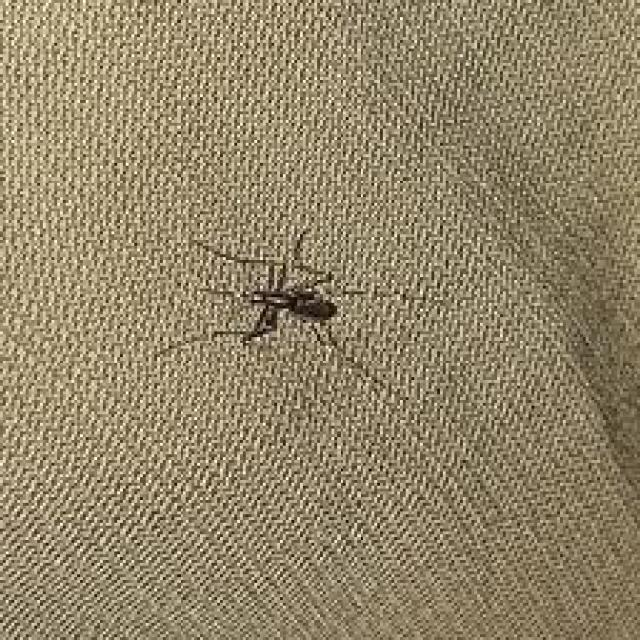Aedes albopictus: (157, 224, 386, 387)
